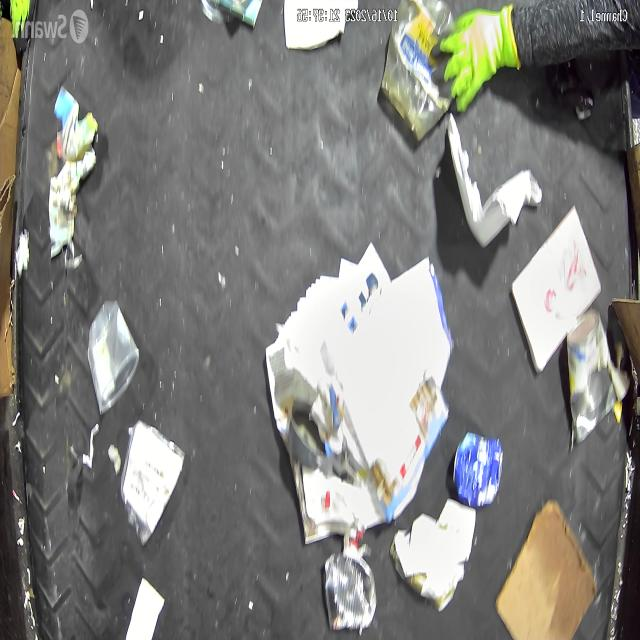can: (566, 307, 617, 446), (323, 548, 377, 632), (451, 431, 503, 508), (286, 398, 327, 469)
